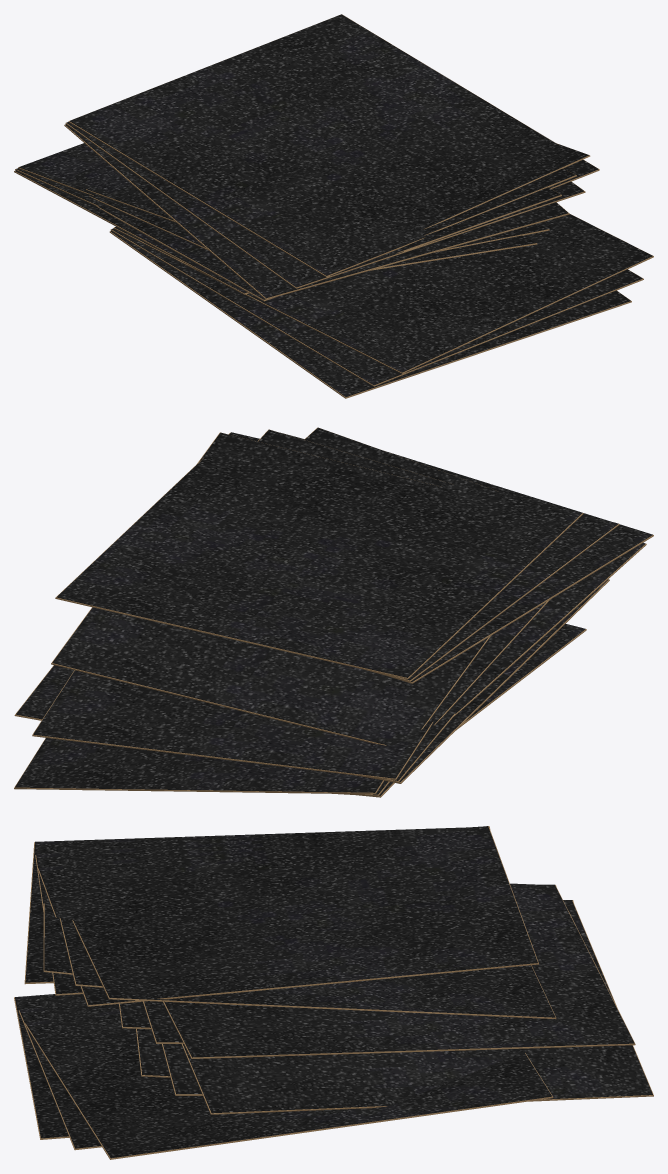
File: HID-INS-003_anim.glb
3 views of the same model, one above another, from view 1: azimuth 30°, elevation 25°; view 2: azimuth 150°, elevation 25°; view 3: azimuth 270°, elevation 25° (orthographic). The views are drawn at different scales.
Visible parts, largest first — view 1: HID-INS-003_anim4, HID-INS-003_anim0, HID-INS-003_anim3, HID-INS-003_anim2, HID-INS-003_anim1; view 2: HID-INS-003_anim4, HID-INS-003_anim3, HID-INS-003_anim2, HID-INS-003_anim1, HID-INS-003_anim0; view 3: HID-INS-003_anim4, HID-INS-003_anim0, HID-INS-003_anim2, HID-INS-003_anim1, HID-INS-003_anim3.
Boxes of the visible parts, x1,y1,x2,y2 form: HID-INS-003_anim4: (64,14,599,299); HID-INS-003_anim0: (109,214,653,398); HID-INS-003_anim3: (74,143,590,301); HID-INS-003_anim2: (14,143,249,294); HID-INS-003_anim1: (370,224,549,270); HID-INS-003_anim4: (55,432,653,683); HID-INS-003_anim3: (51,427,646,745); HID-INS-003_anim2: (32,579,609,783); HID-INS-003_anim1: (14,738,394,797); HID-INS-003_anim0: (14,623,586,730); HID-INS-003_anim4: (24,826,538,1006); HID-INS-003_anim0: (14,994,553,1159); HID-INS-003_anim2: (119,883,635,1058); HID-INS-003_anim1: (136,900,653,1114); HID-INS-003_anim3: (43,900,556,1019).
Size of the model in its own units: 0.3336 by 0.1095 by 0.3932.
Materials: 2 (2 with a texture image).
